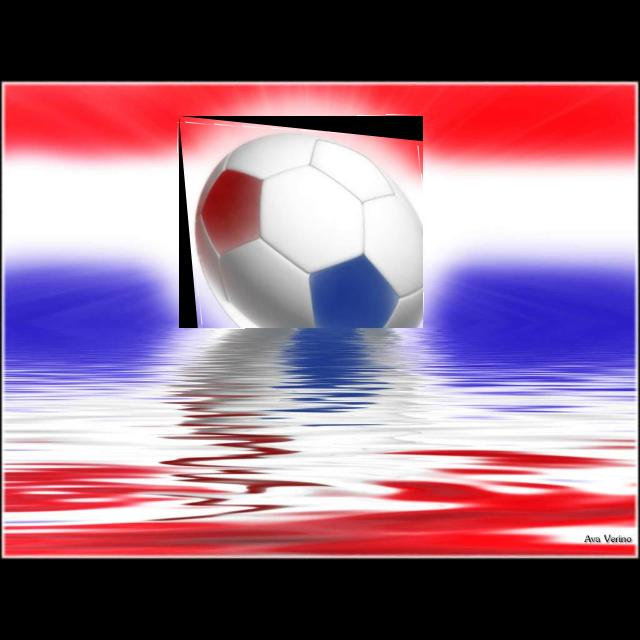Football: (179, 116, 423, 328)
